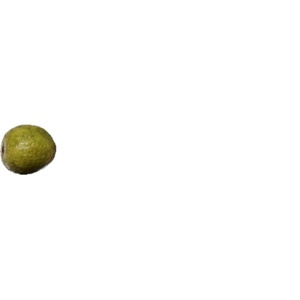goiaba: (2, 122, 57, 179)
